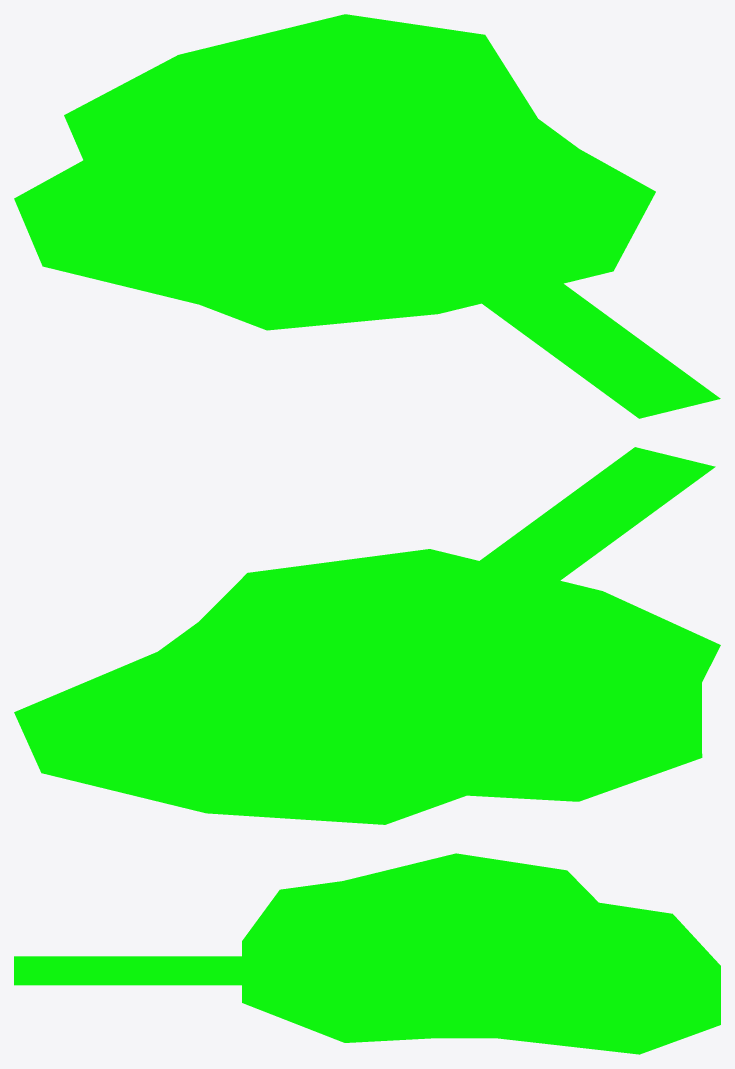
File: s01b_ga1-floor.glb
3 views of the same model, one above another, from view 1: azimuth 30°, elevation 25°; view 2: azimuth 150°, elevation 25°; view 3: azimuth 270°, elevation 25° (orthographic). The views are drawn at different scales.
Visible parts, largest first — view 1: collision_floor-colonly; view 2: collision_floor-colonly; view 3: collision_floor-colonly.
Part boxes in pixels (box(x1,y1,x2,y2)): collision_floor-colonly: box(14, 14, 720, 418); collision_floor-colonly: box(14, 447, 720, 824); collision_floor-colonly: box(14, 853, 720, 1054).
Size of the model in its own units: 41.75 by 0 by 62.
